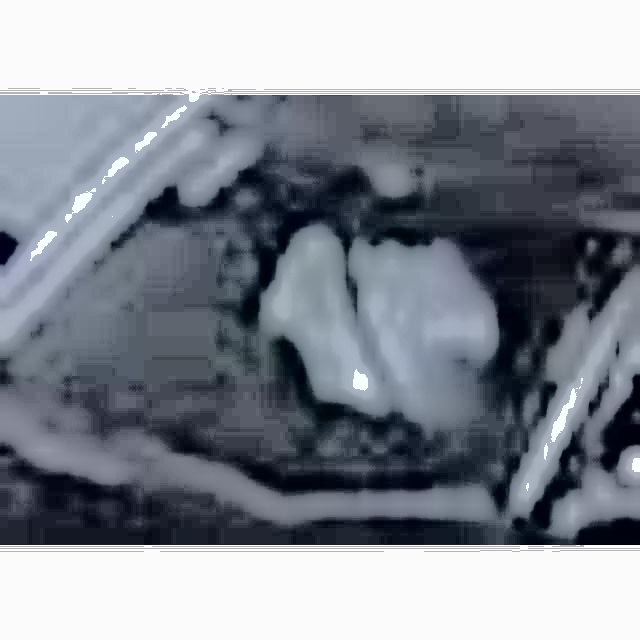pakai: (216, 203, 541, 447)
